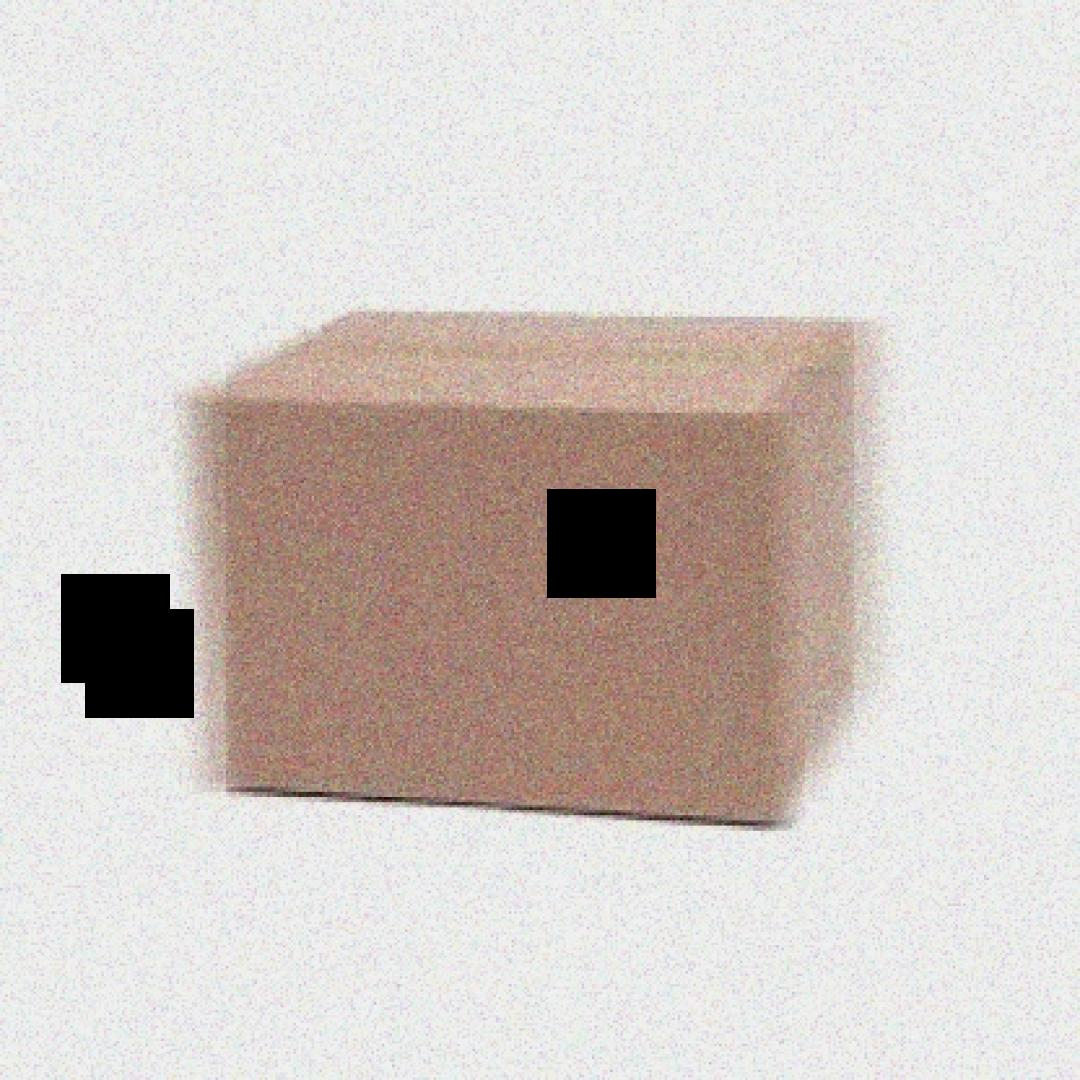package: (184, 301, 890, 831)
